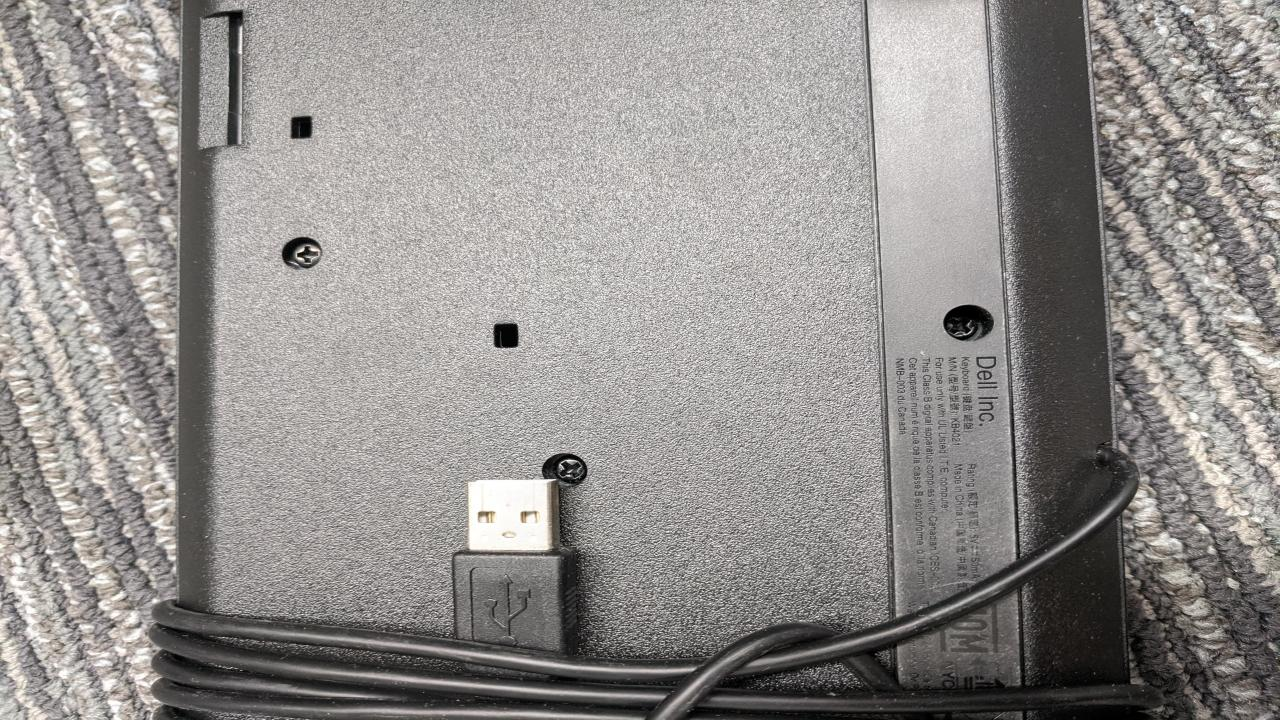CRS: (937, 304, 985, 342), (288, 239, 324, 270), (554, 454, 587, 485)
